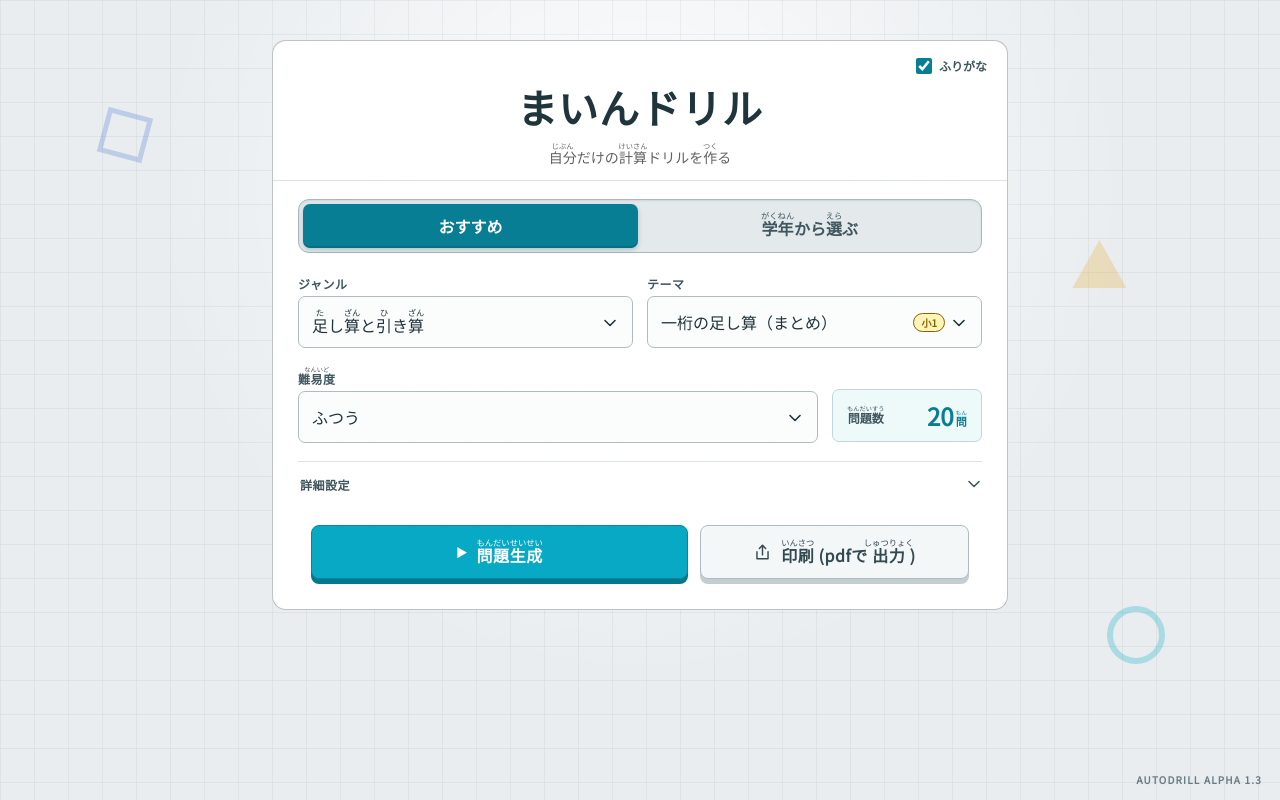
Test: AutoDrillApp › shows the print recommendation only for themes with the print_recommended presentation capability
The width and height of the screenshot is (1280, 800).
Click the dropdown named "テーマ": click(814, 322) [647,296,982,348]
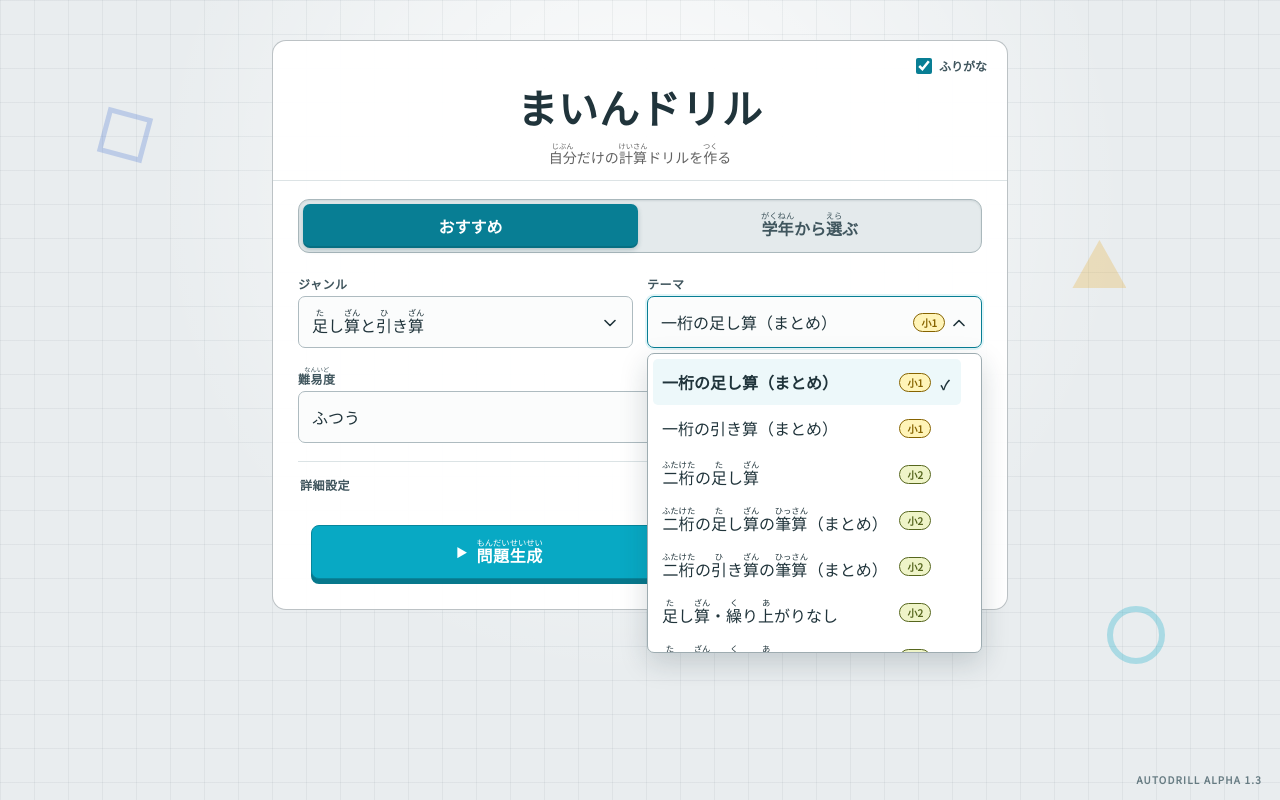
Click the option with aria-label "二桁の足し算の筆算（まとめ）": click(807, 520) [653,497,961,543]
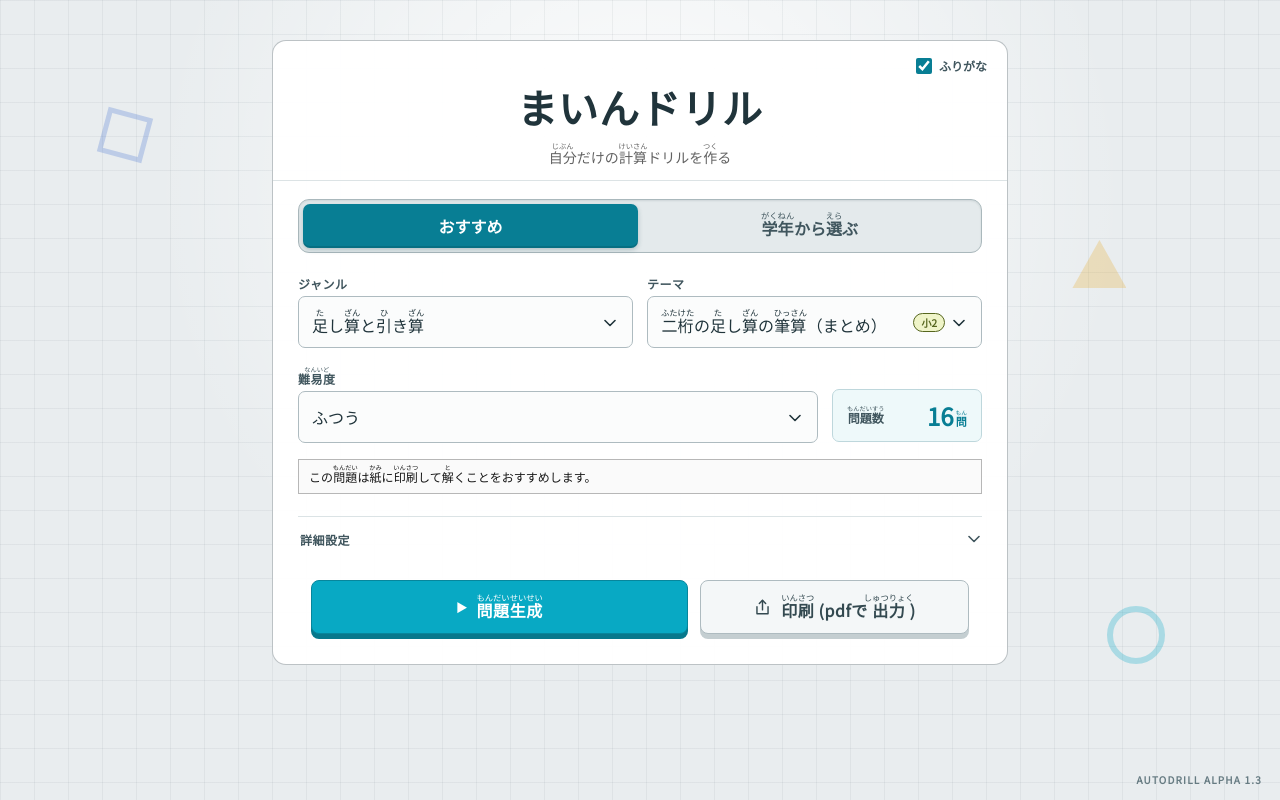
Click the dropdown named "テーマ": click(814, 322) [647,296,982,348]
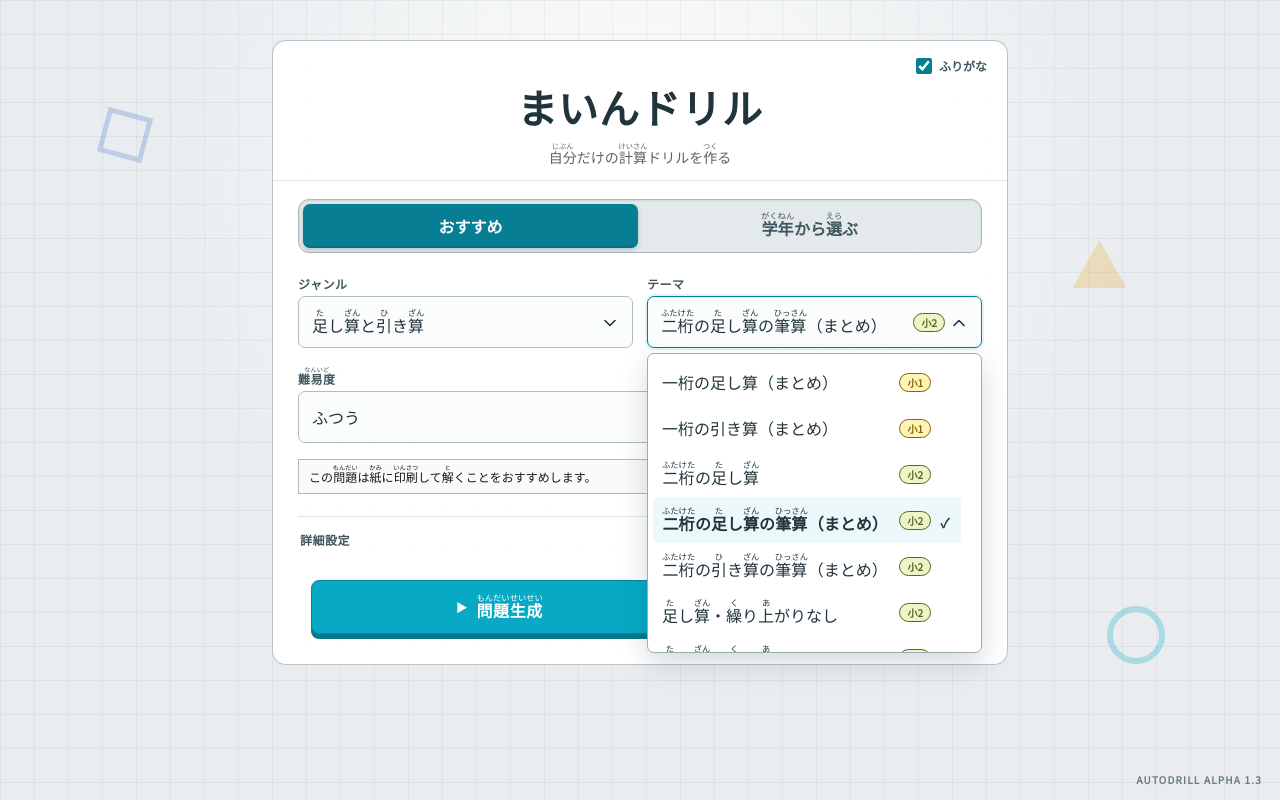
Click the option "一桁の足し算（まとめ） 小1": click(796, 382) [662,370,931,394]
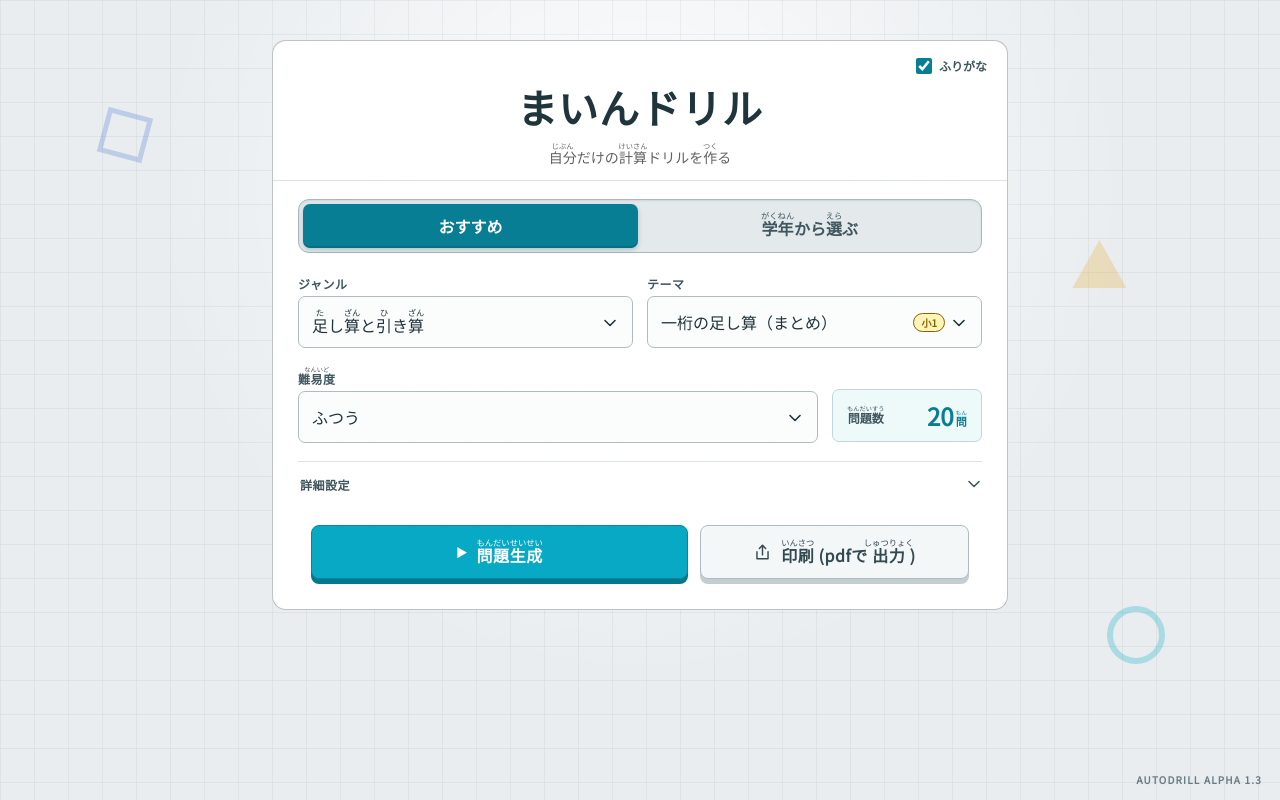
Check: the element "この問題は紙に印刷して解くことをおすすめします。" is gone
